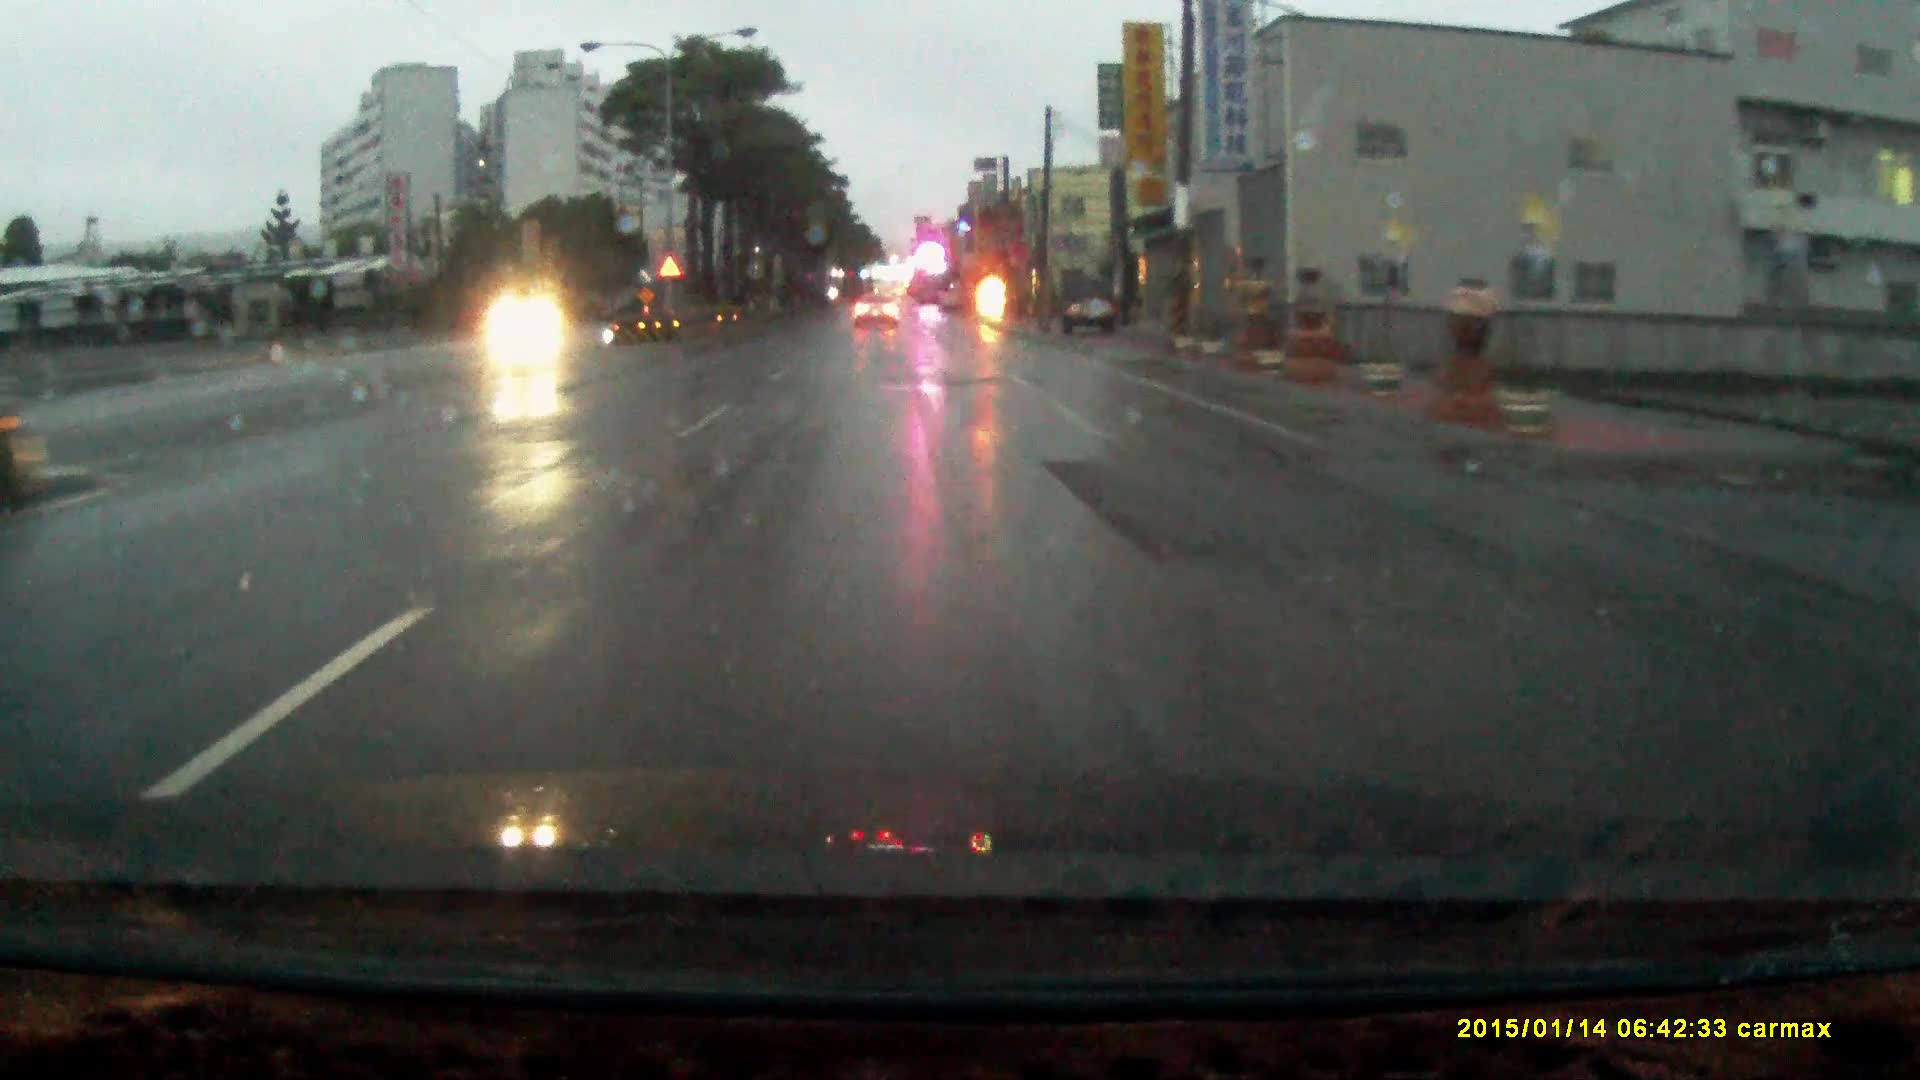vehicle: (1064, 285, 1122, 344), (855, 303, 903, 339)
